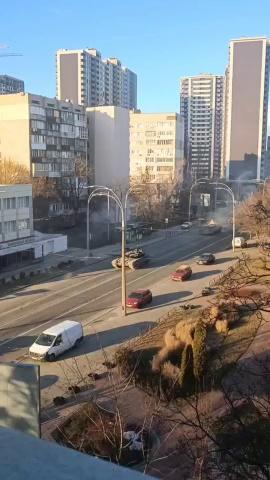car: (29, 319, 83, 361), (126, 288, 153, 310), (171, 265, 192, 282), (196, 252, 216, 266)
tank: (106, 248, 151, 270), (199, 218, 224, 237)
